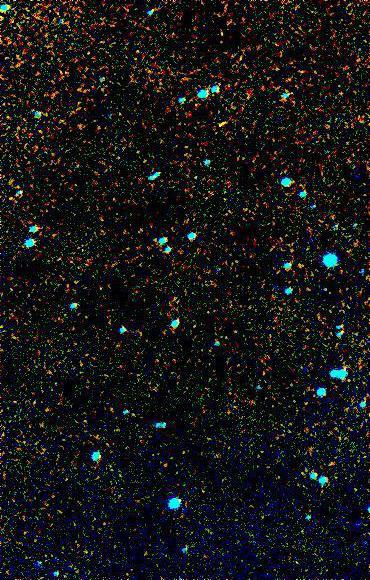star: (207, 113, 237, 143)
